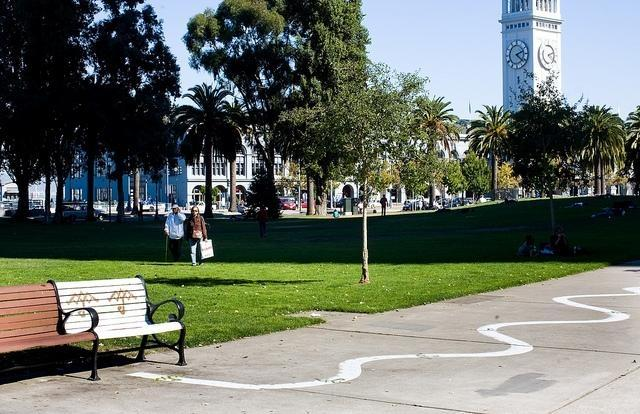bus: (3, 190, 20, 216)
car: (278, 197, 296, 210), (446, 199, 462, 207), (402, 202, 414, 212), (237, 202, 248, 212), (456, 197, 468, 205), (466, 197, 474, 201)
truck: (62, 205, 108, 221)
